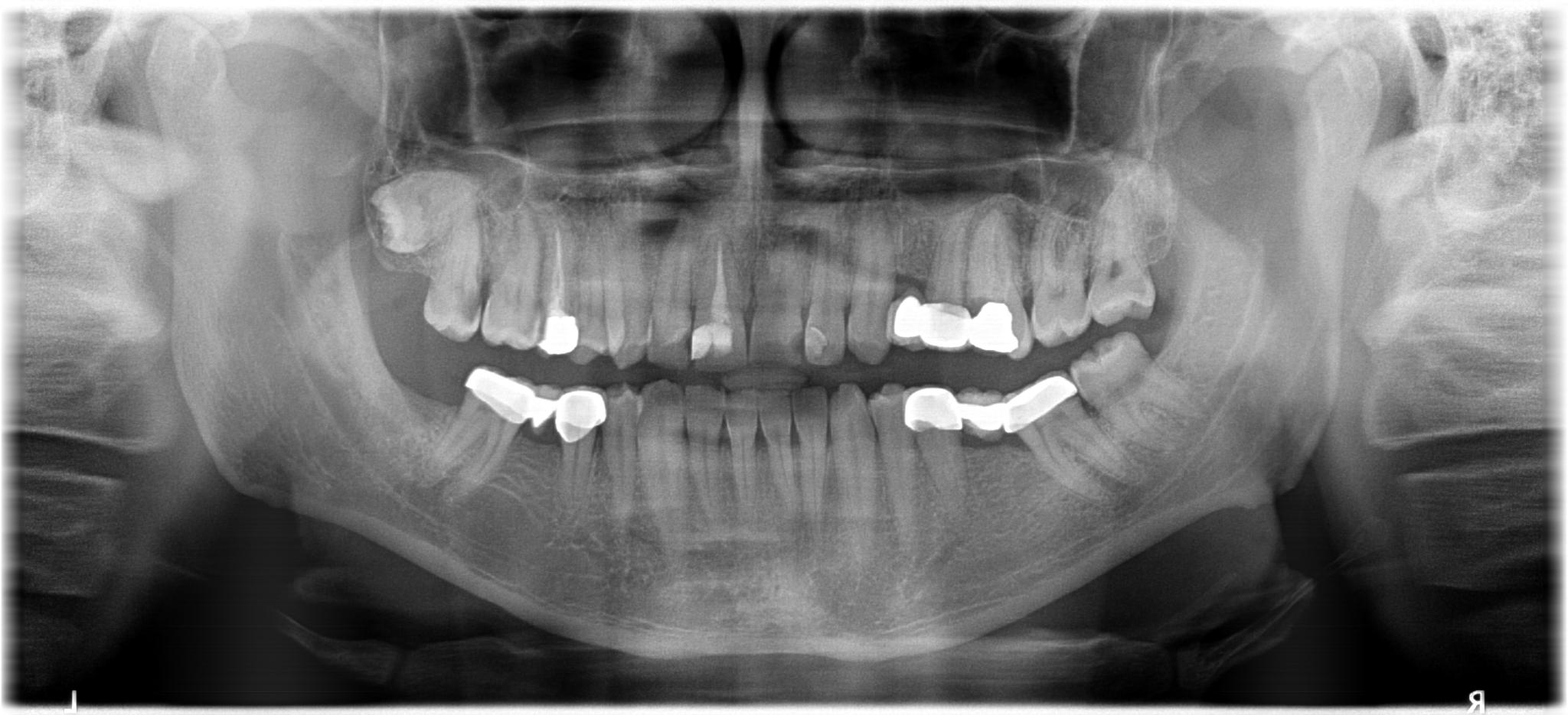Premolars: (520, 194, 1539, 408), (403, 252, 1210, 493), (598, 152, 1568, 341), (236, 228, 729, 446), (251, 81, 666, 244)
